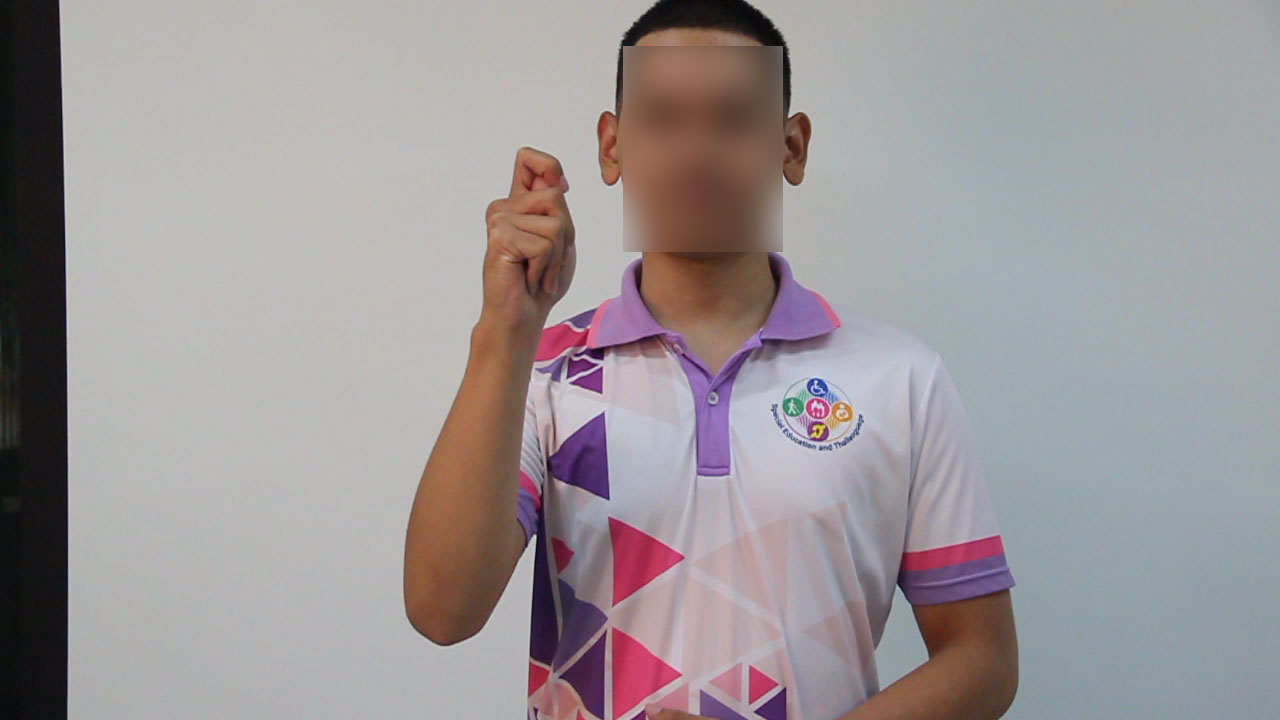or: (475, 143, 586, 344)
